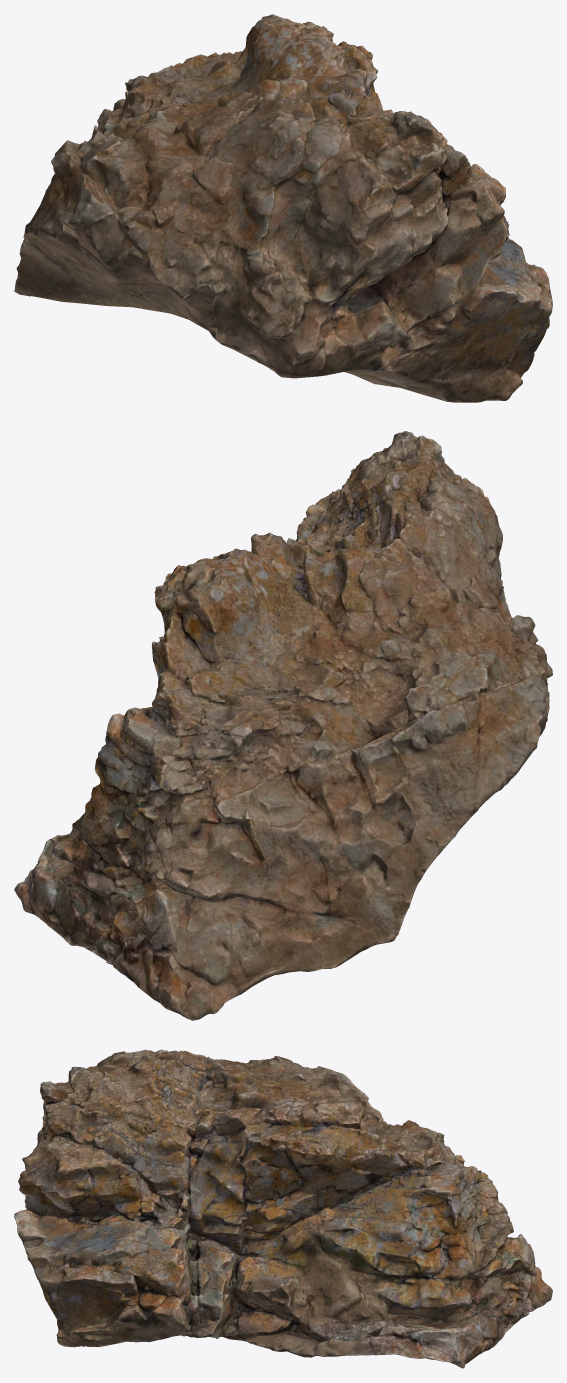
Rendered from pedra1.glb.
3 renders of one model, top to bottom at view 1: azimuth 30°, elevation 25°; view 2: azimuth 150°, elevation 25°; view 3: azimuth 270°, elevation 25°, orthographic. The views are drawn at different scales.
Visible parts, largest first — view 1: boulder_01; view 2: boulder_01; view 3: boulder_01.
Boxes of the visible parts, bbox=[...] form: boulder_01: bbox=[14, 14, 552, 402]; boulder_01: bbox=[14, 431, 552, 1020]; boulder_01: bbox=[14, 1049, 552, 1368].
Size of the model in its own units: 1.27 by 1 by 1.83.
1 material, 1 textured.
